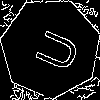U: (25, 23, 81, 75)
